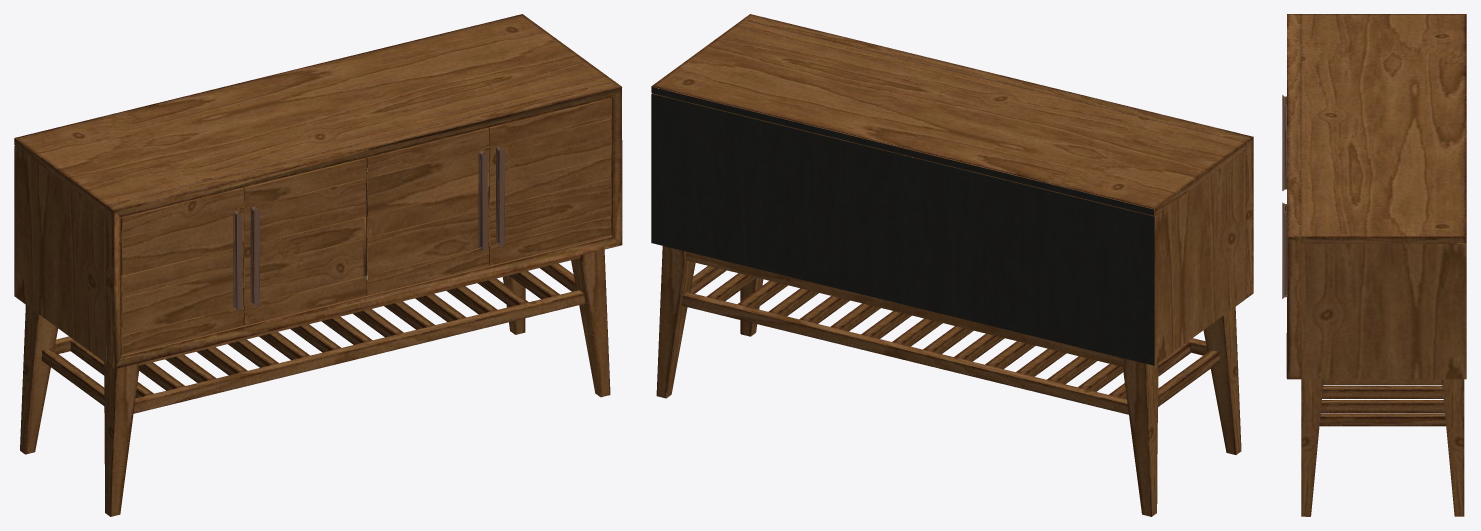
3 renders of one model, left to right at view 1: azimuth 30°, elevation 25°; view 2: azimuth 150°, elevation 25°; view 3: azimuth 270°, elevation 25°, orthographic. The views are drawn at different scales.
Visible parts, largest first — view 1: visual_RootNode; view 2: visual_RootNode; view 3: visual_RootNode.
Boxes of the visible parts, left/top/right/bottom form: visual_RootNode: left=14, top=14, right=622, bottom=516; visual_RootNode: left=651, top=14, right=1253, bottom=516; visual_RootNode: left=1282, top=14, right=1466, bottom=516.
Size of the model in its own units: 1.37 by 0.476 by 0.8027.
1 material, 1 textured.
